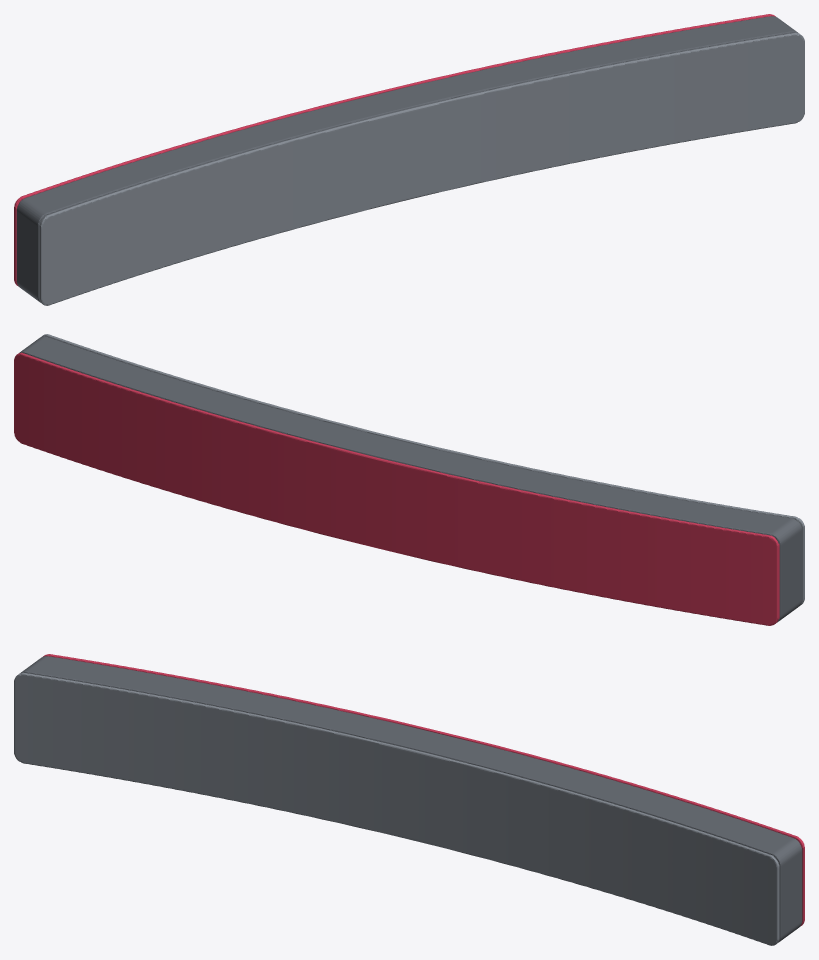
Rendered from rear-panel-concept.glb.
3 renders of one model, top to bottom at view 1: azimuth 30°, elevation 25°; view 2: azimuth 150°, elevation 25°; view 3: azimuth 330°, elevation 25°, orthographic.
Parts seen in each view (by area): view 1: rear-cover, housing, lens; view 2: lens, housing, rear-cover; view 3: rear-cover, housing, lens.
Boxes of the visible parts, bbox=[...] form: rear-cover: bbox=[39, 32, 804, 305]; housing: bbox=[16, 16, 799, 302]; lens: bbox=[14, 14, 775, 286]; lens: bbox=[14, 352, 779, 625]; housing: bbox=[19, 336, 802, 622]; rear-cover: bbox=[42, 334, 804, 605]; rear-cover: bbox=[14, 672, 779, 945]; housing: bbox=[19, 656, 802, 942]; lens: bbox=[43, 654, 804, 926].
Size of the model in its own units: 0.8 by 0.09 by 0.0848.
